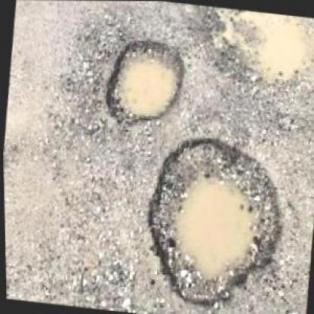Hueco: (131, 127, 295, 313), (98, 33, 190, 129)
